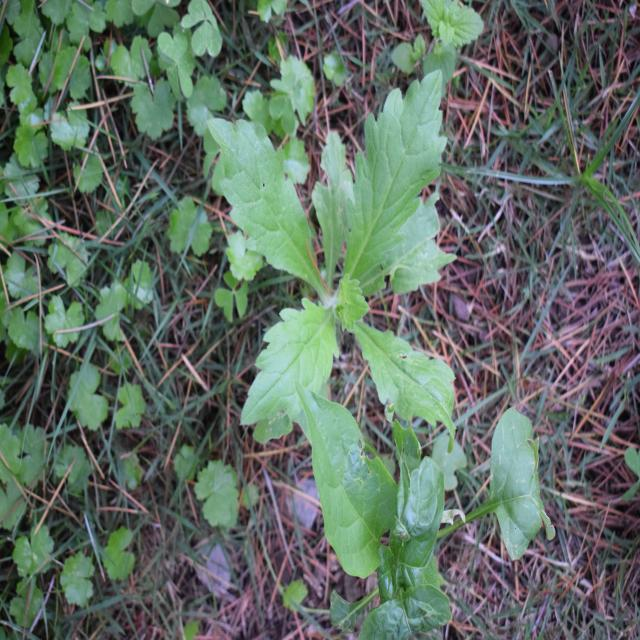horseweed: (221, 89, 458, 452)
